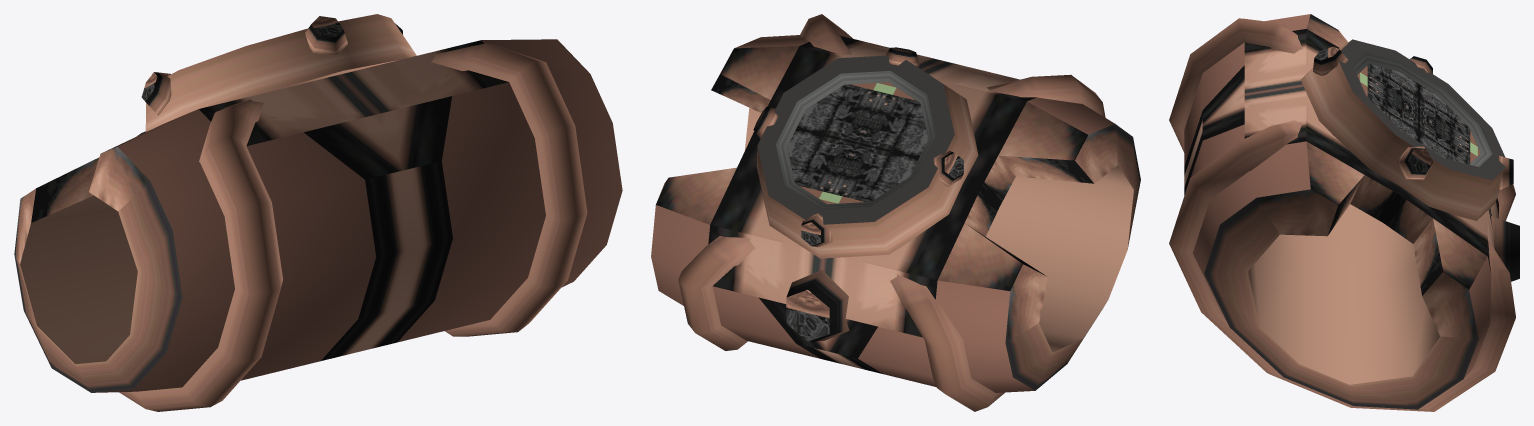
Rendered from copy.ico.obj.
3 views of the same model, side by side, from view 1: azimuth 30°, elevation 25°; view 2: azimuth 150°, elevation 25°; view 3: azimuth 270°, elevation 25° (orthographic). The views are drawn at different scales.
Bounding box in the file's own units: 4.84 × 3.58 × 3.78.
